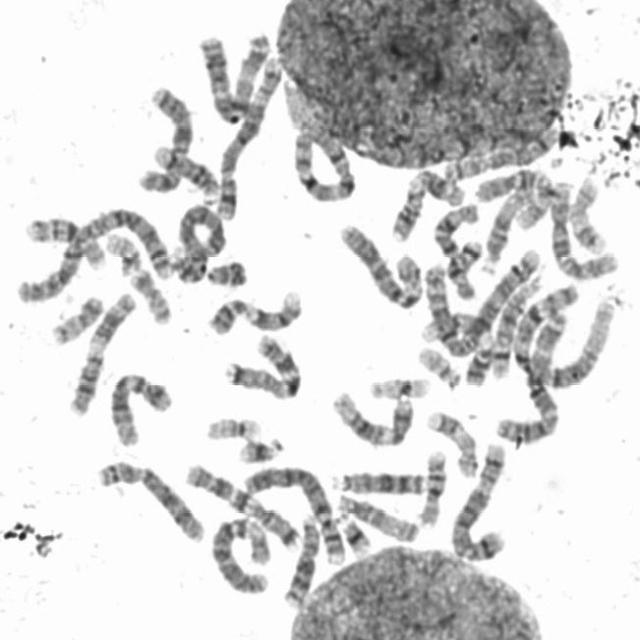A1: (506, 280, 618, 390), (283, 98, 359, 204)
A2: (11, 200, 172, 305), (416, 239, 546, 354)
A3: (492, 301, 572, 445), (193, 25, 273, 124)
B4: (239, 457, 349, 567), (168, 197, 230, 285)
B5: (210, 46, 286, 222), (446, 437, 512, 564)
C10: (544, 174, 621, 282), (473, 168, 555, 233)
C11: (62, 284, 140, 417), (383, 162, 466, 244)
C12: (104, 364, 176, 449), (326, 384, 417, 449)
C6: (333, 217, 427, 311), (206, 509, 274, 596)
C7: (178, 456, 305, 551), (218, 326, 306, 401)
C8: (90, 453, 208, 544), (438, 122, 560, 183)
C9: (419, 311, 498, 389), (202, 282, 306, 336)
D13: (278, 507, 324, 609), (326, 462, 430, 496)
D14: (484, 264, 544, 381), (147, 136, 222, 203)
D15: (475, 178, 537, 276), (330, 486, 422, 544)
E16: (19, 209, 111, 272), (412, 442, 450, 529)
E17: (421, 402, 481, 479), (566, 170, 610, 256)
E18: (428, 196, 482, 259), (443, 233, 485, 300)
F19: (364, 368, 434, 402), (200, 408, 264, 442)
F20: (45, 288, 106, 347), (124, 263, 174, 326)
G21: (333, 507, 374, 558), (233, 429, 285, 465)
G22: (413, 338, 466, 390), (100, 226, 146, 275)
X: (132, 78, 196, 195)
Y: (202, 254, 250, 288)
